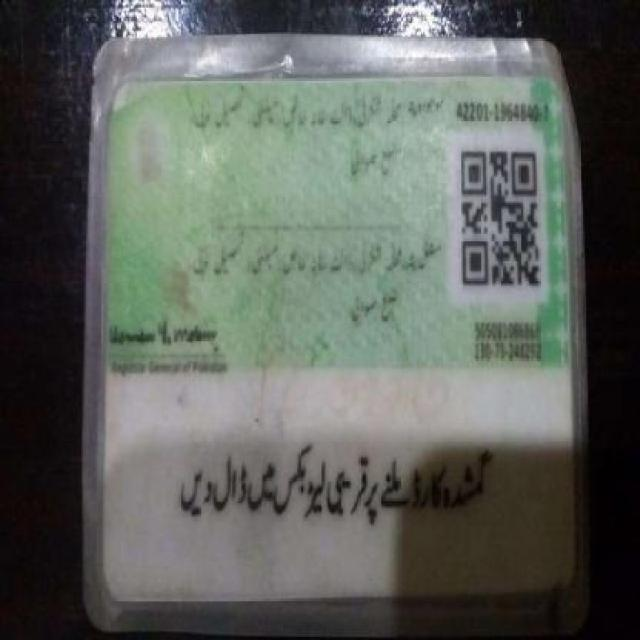Back: (89, 69, 585, 620)
